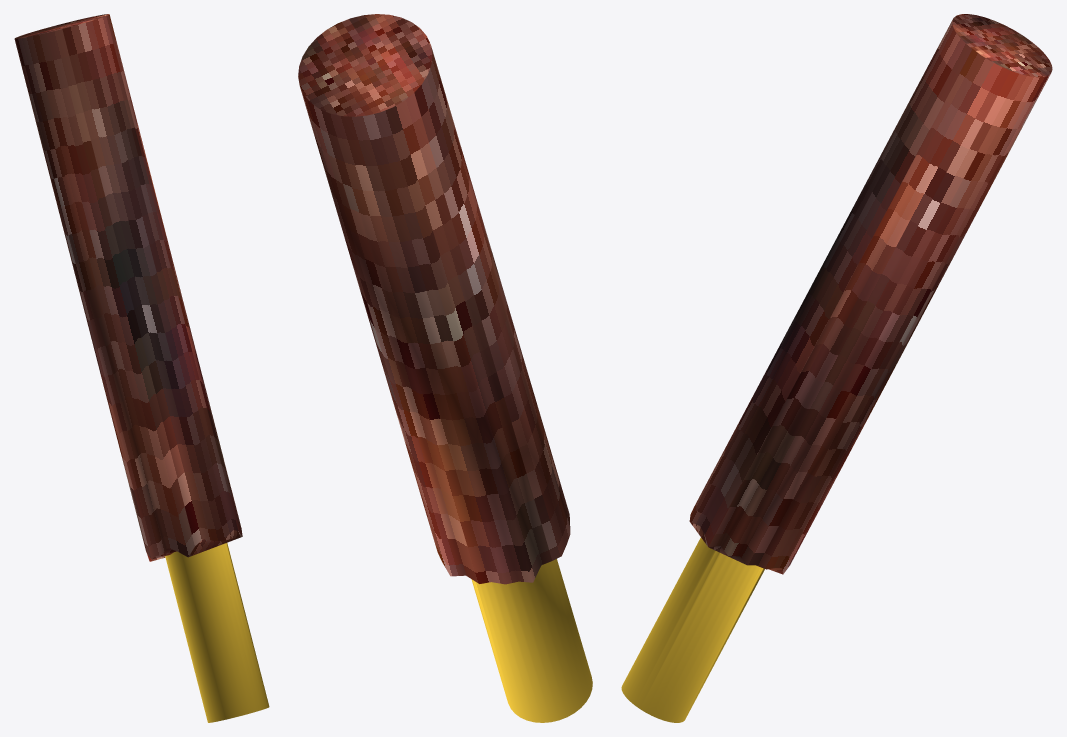
File: AL_DulceTamarindoSingle_Static.fbx
3 views of the same model, side by side, from view 1: azimuth 30°, elevation 25°; view 2: azimuth 150°, elevation 25°; view 3: azimuth 270°, elevation 25° (orthographic). The views are drawn at different scales.
Visible parts, largest first — view 1: Cylinder; view 2: Cylinder; view 3: Cylinder.
Part boxes in pixels (x1=…): Cylinder: x1=14, y1=14, x2=269, y2=722; Cylinder: x1=298, y1=14, x2=592, y2=722; Cylinder: x1=621, y1=14, x2=1052, y2=722.
Bounding box in the file's own units: 0.1553 × 0.2713 × 0.0468.
